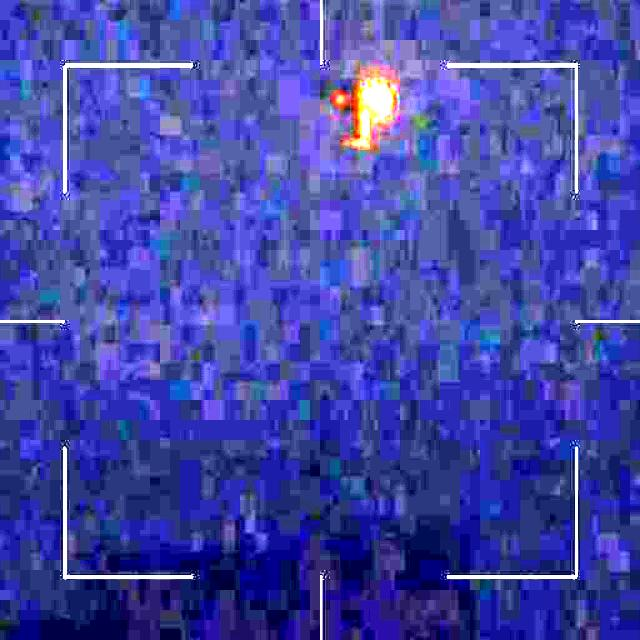bird: (324, 79, 395, 141)
